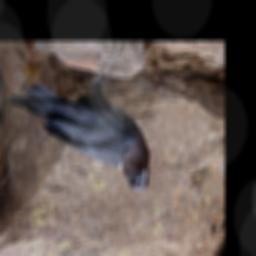Crow: (5, 43, 151, 195)
